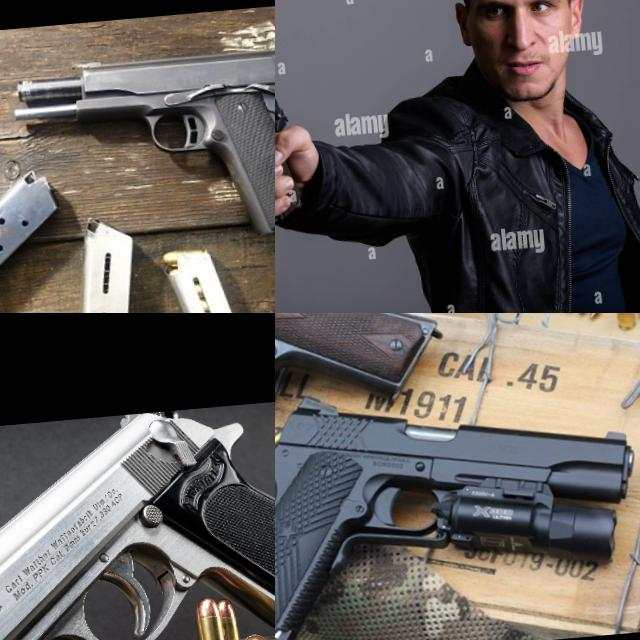handgun: (275, 363, 640, 640), (0, 395, 275, 640), (5, 32, 275, 262), (275, 313, 486, 525), (275, 84, 348, 174)
